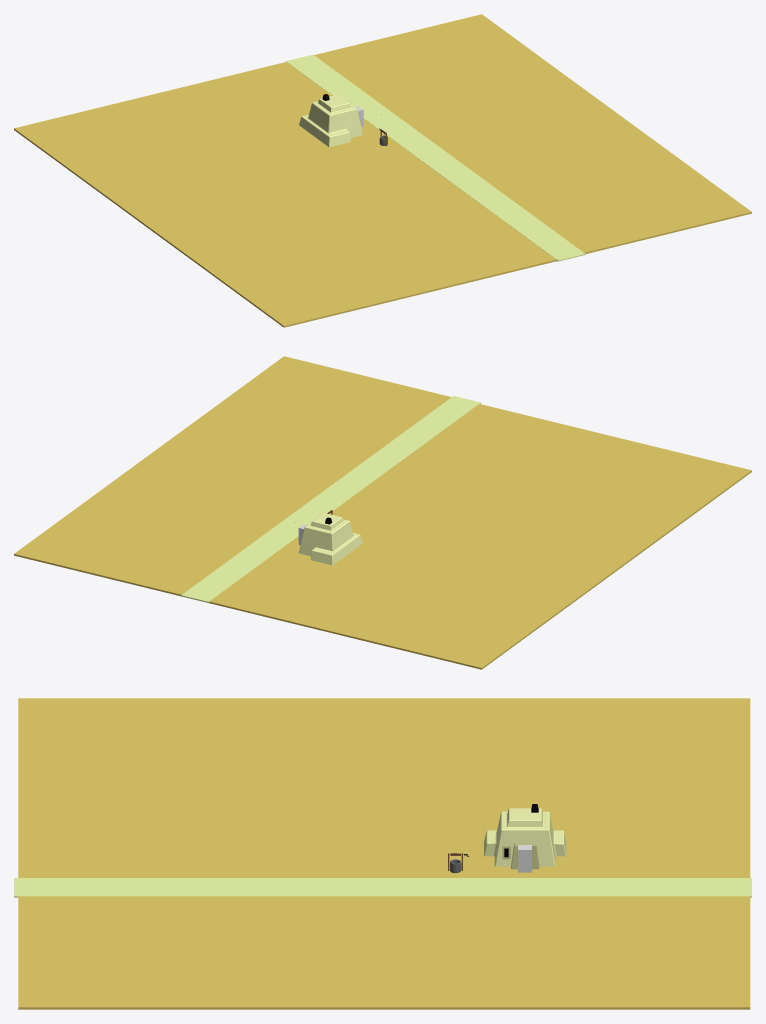
The model's file is Desert_of_Karakal1.fbx.
3 views of the same model, one above another, from view 1: azimuth 30°, elevation 25°; view 2: azimuth 150°, elevation 25°; view 3: azimuth 270°, elevation 25° (orthographic). The views are drawn at different scales.
Parts seen in each view (by area): view 1: Cube, Road, Cube.005; view 2: Cube, Road, Cube.005; view 3: Cube, Road, Cube.005.
Part boxes in pixels (x1,y1,x2,y2): Cube: [14, 14, 751, 327]; Road: [285, 54, 585, 261]; Cube.005: [299, 94, 362, 147]; Cube: [14, 356, 751, 669]; Road: [181, 396, 480, 602]; Cube.005: [298, 513, 362, 565]; Cube: [18, 698, 750, 1009]; Road: [14, 878, 751, 897]; Cube.005: [484, 808, 566, 866].
Size of the model in its own units: 7877 by 587 by 7944.
